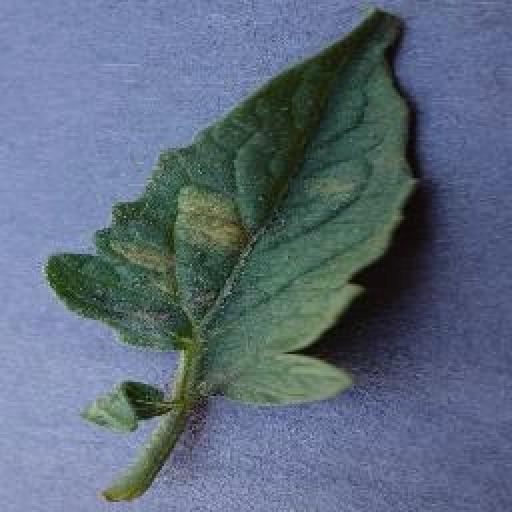disease_tomato: (48, 8, 418, 408)
